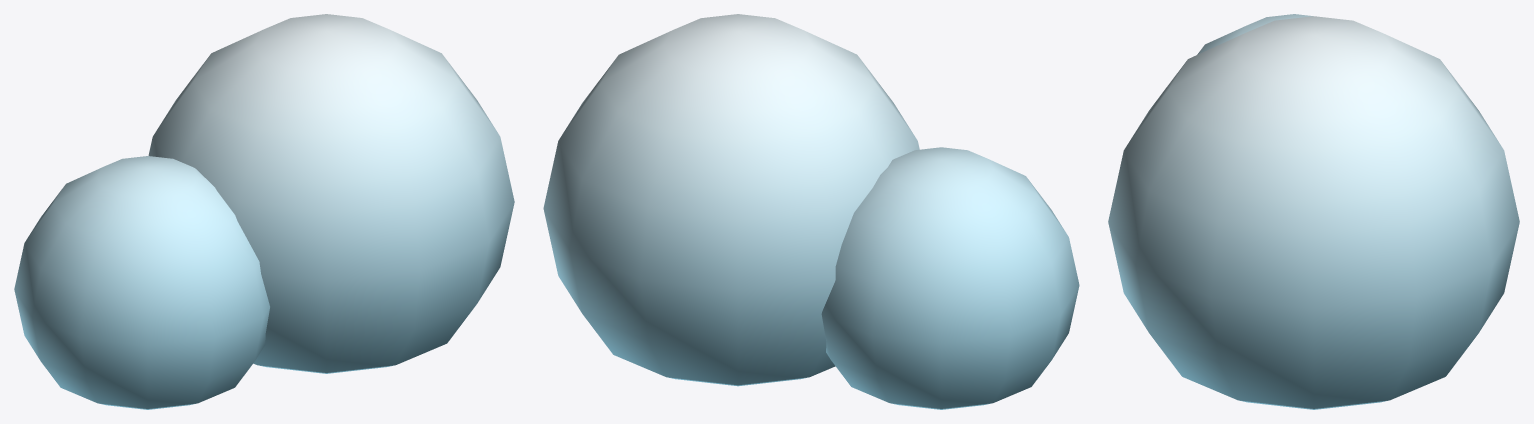
Rendered from Cloud_03.fbx.
3 views of the same model, side by side, from view 1: azimuth 30°, elevation 25°; view 2: azimuth 150°, elevation 25°; view 3: azimuth 270°, elevation 25° (orthographic). The views are drawn at different scales.
Parts seen in each view (by area): view 1: Cloud_03; view 2: Cloud_03; view 3: Cloud_03.
Part boxes in pixels (bbox=[...]): Cloud_03: bbox=[14, 14, 514, 409]; Cloud_03: bbox=[543, 14, 1079, 409]; Cloud_03: bbox=[1108, 14, 1519, 409].
Bounding box in the file's own units: 286 × 171 × 200.
